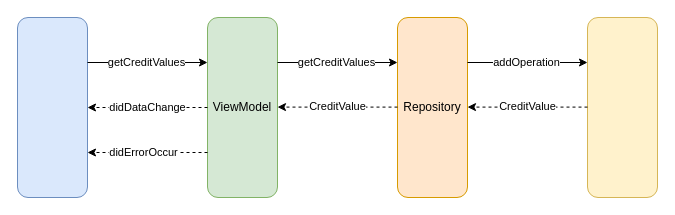
The diagram is 675 pixels wide and 215 high, and some of its shapes have lost their labels. The shapes that lost their labels are listed below. From the top down, each one's centre as x and y in pixels, then its label:
At pixel 52 107: "View".
At pixel 622 107: "Network Layer".
